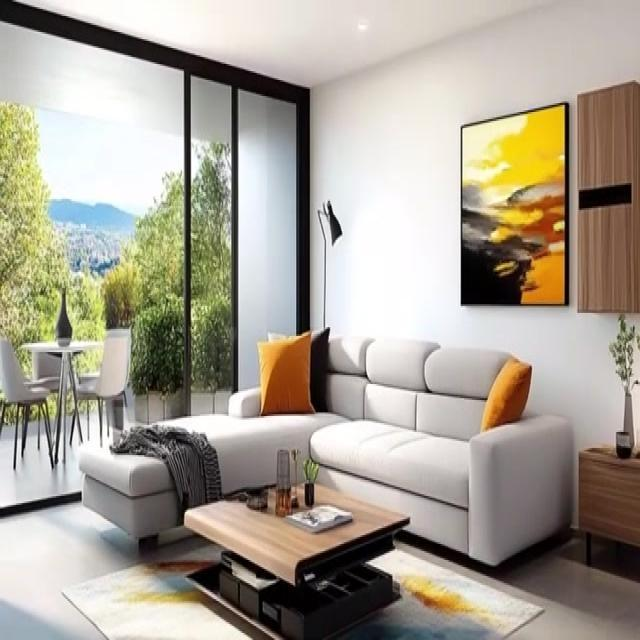obstacle: (78, 329, 574, 567), (184, 478, 411, 640), (18, 340, 104, 462), (575, 443, 640, 567)
